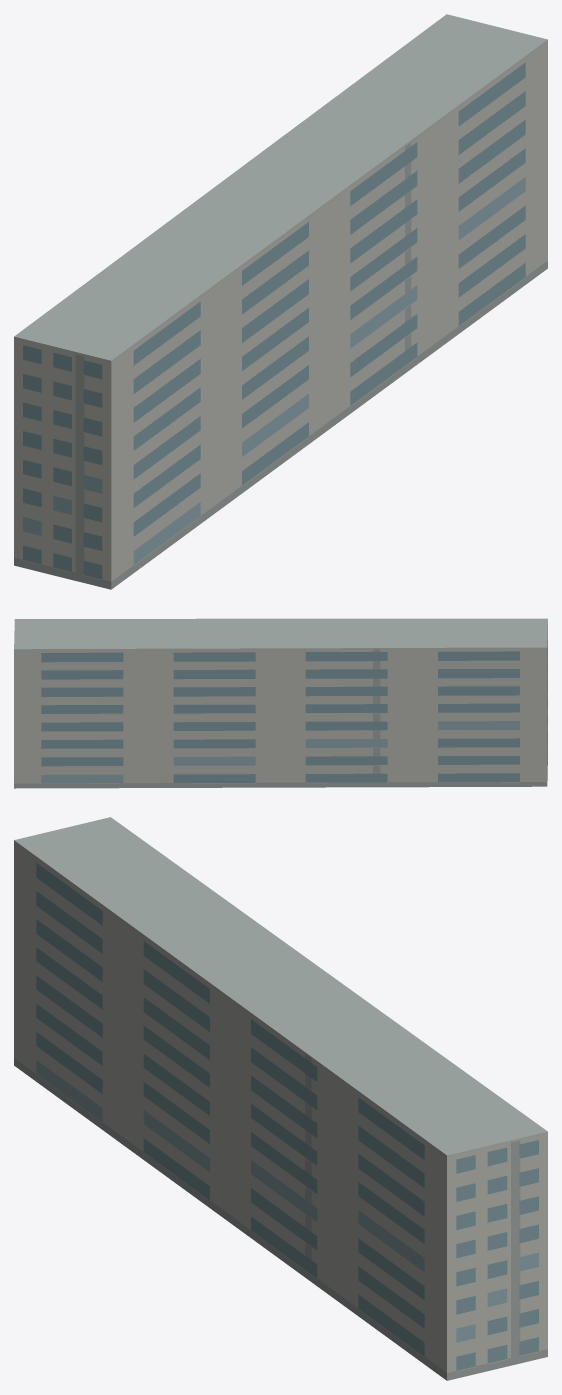
Rendered from residential-24d735ab-c914-4549-994d-0ecbc421d4a8.glb.
3 views of the same model, one above another, from view 1: azimuth 30°, elevation 25°; view 2: azimuth 150°, elevation 25°; view 3: azimuth 270°, elevation 25° (orthographic). The views are drawn at different scales.
Visible parts, largest first — view 1: residential-24d735ab-c914-4549-994d-0ecbc421d4a8.tmp; view 2: residential-24d735ab-c914-4549-994d-0ecbc421d4a8.tmp; view 3: residential-24d735ab-c914-4549-994d-0ecbc421d4a8.tmp.
Boxes of the visible parts, x1,y1,x2,y2 form: residential-24d735ab-c914-4549-994d-0ecbc421d4a8.tmp: (14, 14, 547, 589); residential-24d735ab-c914-4549-994d-0ecbc421d4a8.tmp: (14, 618, 547, 788); residential-24d735ab-c914-4549-994d-0ecbc421d4a8.tmp: (14, 817, 547, 1380).
Size of the model in its own units: 78.6 by 24.4 by 52.4.
